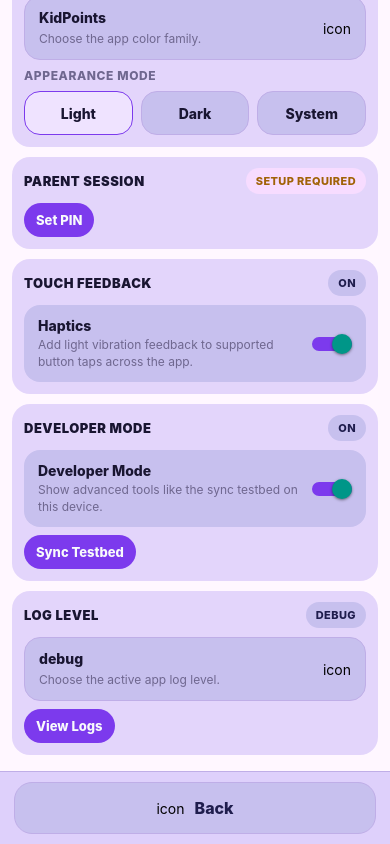
SettingsScreen › shows and updates the active app log level from the picker modal
(page scrolled)
Expected: the text "Log Level" is shown, left=24, top=607, right=99, bottom=623
Expected: the 1st text "debug" is shown, left=316, top=608, right=356, bottom=622
Click the button with aria-label "Open log level picker": (195, 669) left=24, top=637, right=366, bottom=701
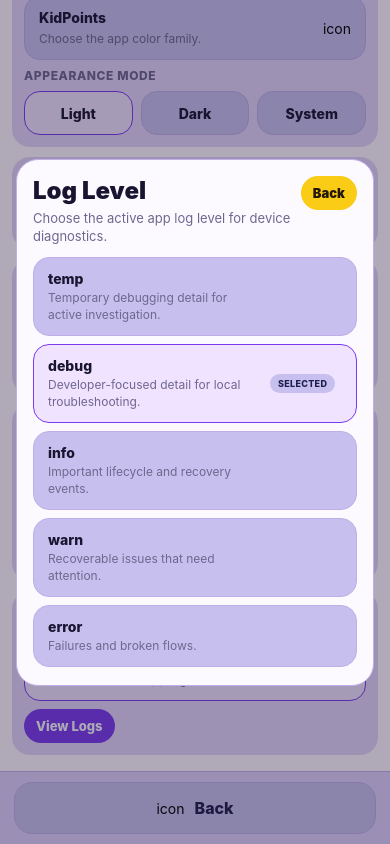
Expected: the text "Temporary debugging detail for active investigation." is shown, left=48, top=288, right=260, bottom=322
Click the text "error": (65, 626) left=48, top=618, right=82, bottom=634
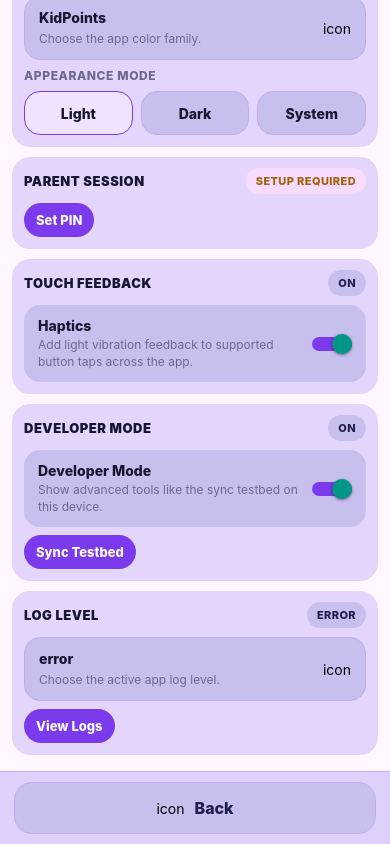
Expected: the 1st text "error" is shown, left=317, top=608, right=356, bottom=622
Expected: the button "Temporary debugging detail for active investigation." is gone
